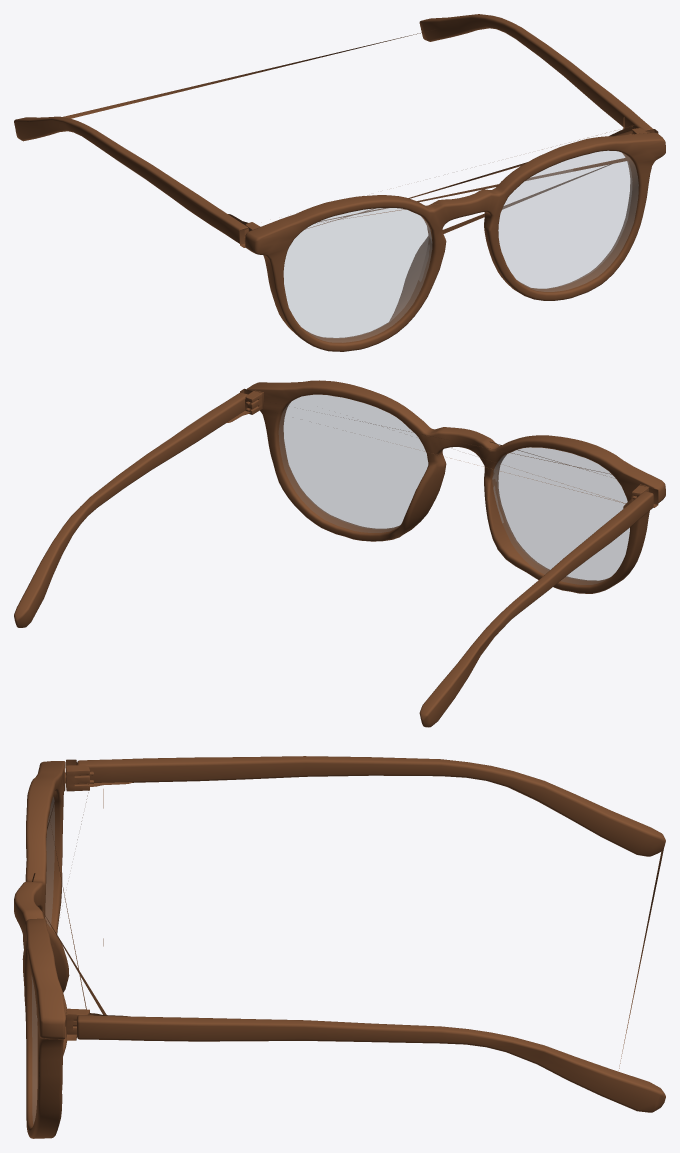
The model's file is model_1_tortoiseshell.glb.
The picture shows the model from 3 angles, top to bottom: view 1: azimuth 30°, elevation 25°; view 2: azimuth 150°, elevation 25°; view 3: azimuth 270°, elevation 25°; orthographic projection. The views are drawn at different scales.
Visible parts, largest first — view 1: model_0; view 2: model_0; view 3: model_0.
Boxes of the visible parts, x1,y1,x2,y2 form: model_0: (14, 14, 665, 351); model_0: (14, 380, 665, 727); model_0: (14, 756, 665, 1138).
Bounding box in the file's own units: 0.565 × 0.1842 × 0.5717.
